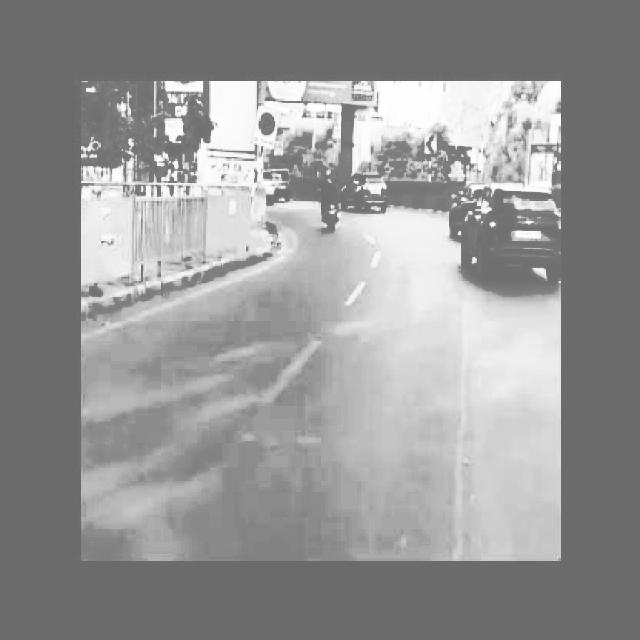Car: (466, 175, 560, 298), (340, 158, 400, 217)
